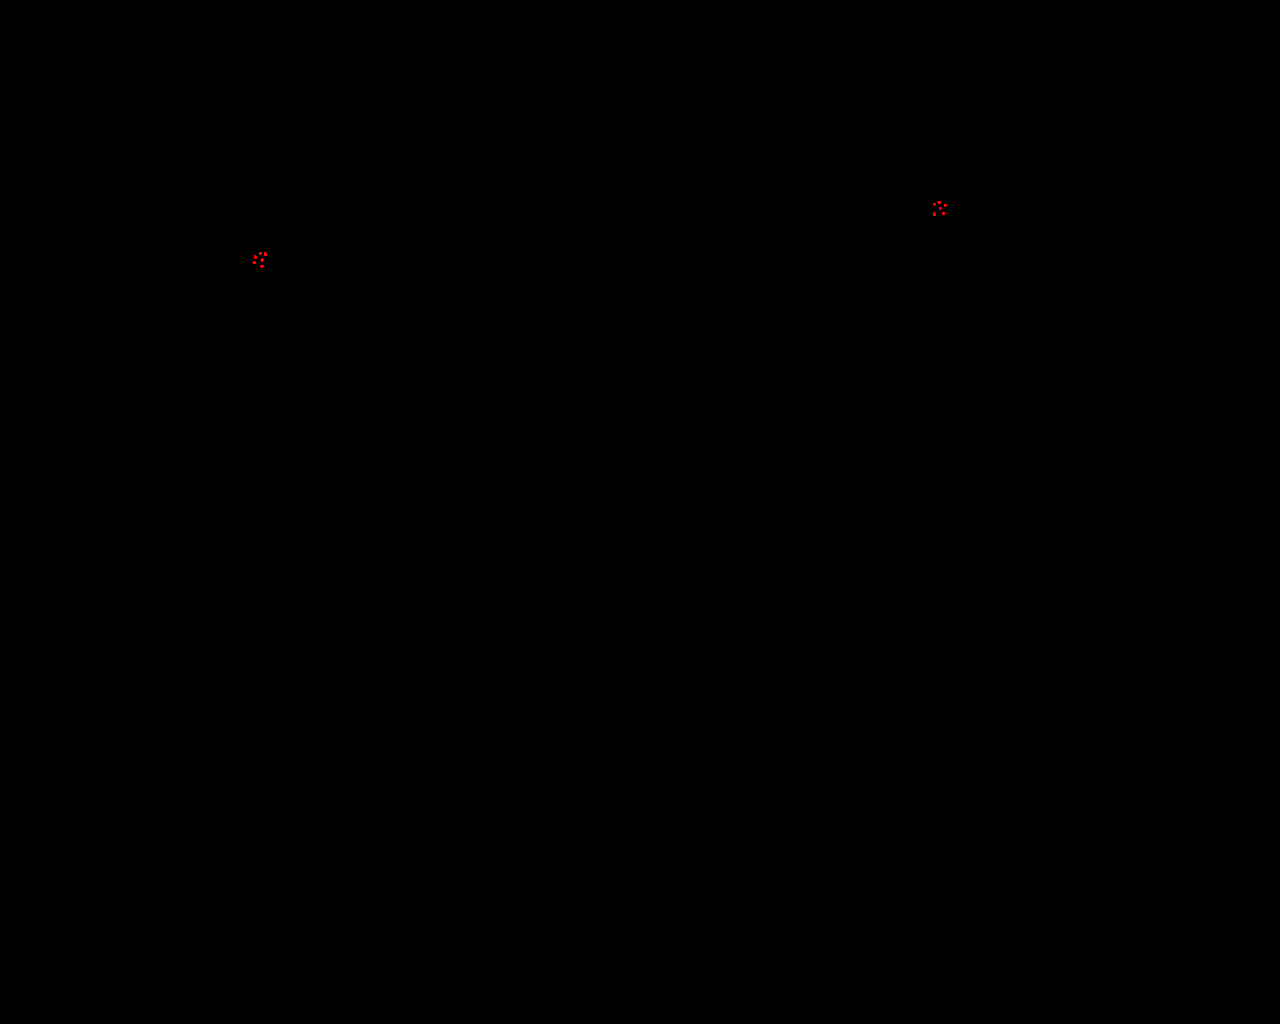Target: (260, 258, 264, 262), (937, 201, 941, 204), (933, 212, 936, 216), (264, 252, 267, 256), (254, 255, 257, 259), (252, 261, 256, 264), (933, 203, 936, 206), (944, 204, 947, 207), (939, 207, 942, 210), (259, 252, 262, 255), (260, 265, 264, 267), (942, 212, 945, 215)
